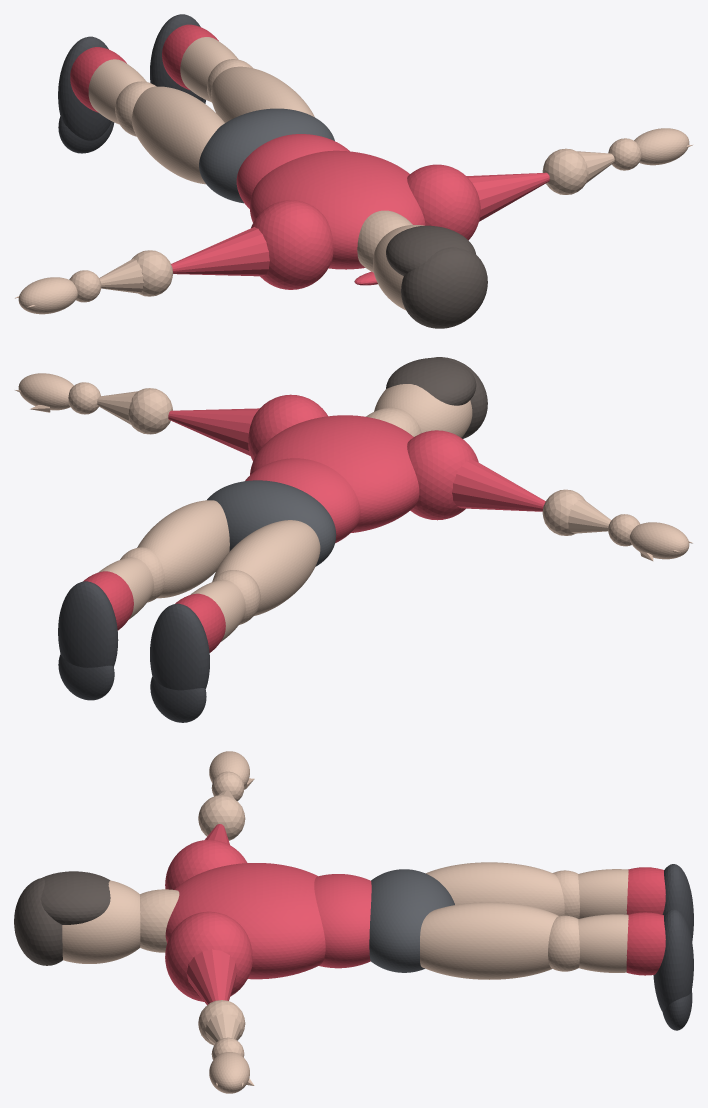
The model's file is taker_red.glb.
3 renders of one model, top to bottom at view 1: azimuth 30°, elevation 25°; view 2: azimuth 150°, elevation 25°; view 3: azimuth 270°, elevation 25°, orthographic.
Visible parts, largest first — view 1: upper_torso_jersey, right_thigh, hair_cap, right_shoulder, pelvis_shorts, left_shoulder, left_thigh, right_upper_arm, abdomen_jersey, hair_back, right_boot, left_upper_arm (+17 smaller); view 2: upper_torso_jersey, left_thigh, right_thigh, pelvis_shorts, right_boot, left_boot, right_shoulder, abdomen_jersey, right_upper_arm, head, hair_back, left_upper_arm (+19 smaller); view 3: upper_torso_jersey, left_thigh, pelvis_shorts, right_thigh, abdomen_jersey, left_shoulder, head, hair_back, hair_cap, left_boot, left_lower_leg, left_sock (+15 smaller).
Part boxes in pixels (left/top/right/bottom): upper_torso_jersey: left=249, top=150, right=425, bottom=269; right_thigh: left=132, top=86, right=224, bottom=184; hair_cap: left=401, top=247, right=487, bottom=328; right_shoulder: left=251, top=200, right=333, bottom=289; pelvis_shorts: left=199, top=108, right=334, bottom=203; left_shoulder: left=407, top=164, right=480, bottom=240; left_thigh: left=211, top=66, right=314, bottom=122; right_upper_arm: left=171, top=227, right=269, bottom=276; abdomen_jersey: left=236, top=134, right=349, bottom=208; hair_back: left=386, top=225, right=475, bottom=275; right_boot: left=58, top=36, right=111, bottom=140; left_upper_arm: left=466, top=172, right=549, bottom=221; upper_torso_jersey: left=250, top=415, right=419, bottom=533; left_thigh: left=137, top=500, right=229, bottom=598; right_thigh: left=212, top=520, right=320, bottom=615; pelvis_shorts: left=207, top=480, right=336, bottom=566; right_boot: left=150, top=603, right=209, bottom=690; left_boot: left=58, top=581, right=118, bottom=667; right_shoulder: left=407, top=430, right=478, bottom=520; abdomen_jersey: left=245, top=458, right=360, bottom=542; right_upper_arm: left=452, top=459, right=545, bottom=511; head: left=374, top=384, right=472, bottom=437; hair_back: left=386, top=357, right=476, bottom=405; left_upper_arm: left=168, top=408, right=259, bottom=455; upper_torso_jersey: left=165, top=863, right=325, bottom=979; left_thigh: left=420, top=902, right=558, bottom=979; pelvis_shorts: left=369, top=869, right=454, bottom=972; right_thigh: left=426, top=862, right=564, bottom=916; abdomen_jersey: left=314, top=874, right=371, bottom=968; left_shoulder: left=165, top=911, right=252, bottom=1001; head: left=62, top=880, right=140, bottom=963; hair_back: left=40, top=871, right=110, bottom=924; hair_cap: left=14, top=878, right=62, bottom=965; left_boot: left=653, top=909, right=693, bottom=1011; left_lower_leg: left=578, top=914, right=628, bottom=972; left_sock: left=626, top=912, right=665, bottom=975.
Size of the model in its own units: 2.47 by 0.45 by 2.16.
